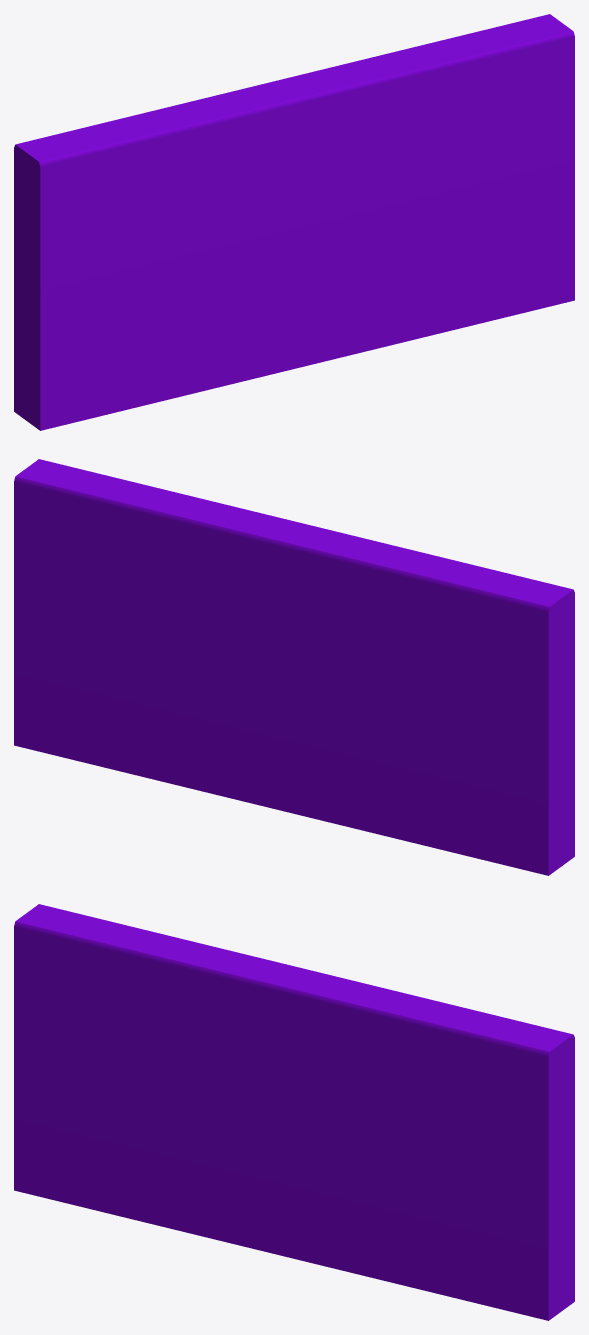
The model's file is RampN_C_Left.fbx.
3 views of the same model, one above another, from view 1: azimuth 30°, elevation 25°; view 2: azimuth 150°, elevation 25°; view 3: azimuth 330°, elevation 25° (orthographic).
Parts seen in each view (by area): view 1: RampN_C_Left; view 2: RampN_C_Left; view 3: RampN_C_Left.
Part boxes in pixels (x1,y1,x2,y2): RampN_C_Left: [14, 14, 574, 430]; RampN_C_Left: [14, 459, 574, 875]; RampN_C_Left: [14, 904, 574, 1320].
Size of the model in its own units: 6.07 by 2.91 by 0.5177.
